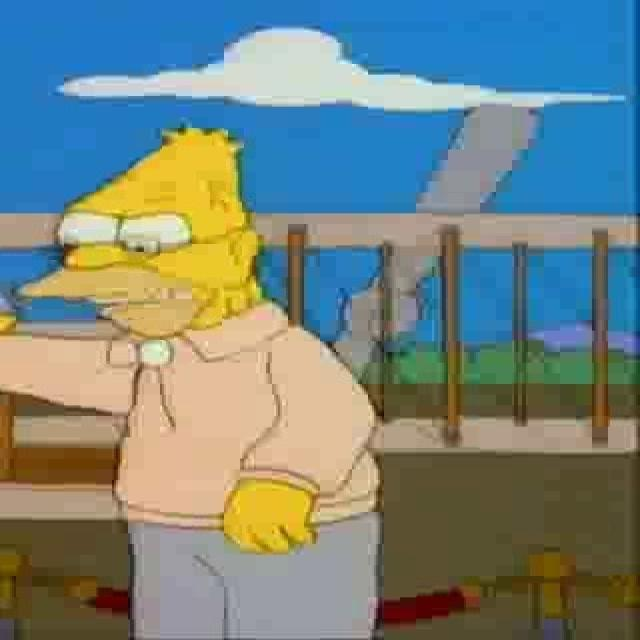Abraham Grampa Simpson: (12, 123, 268, 341)
